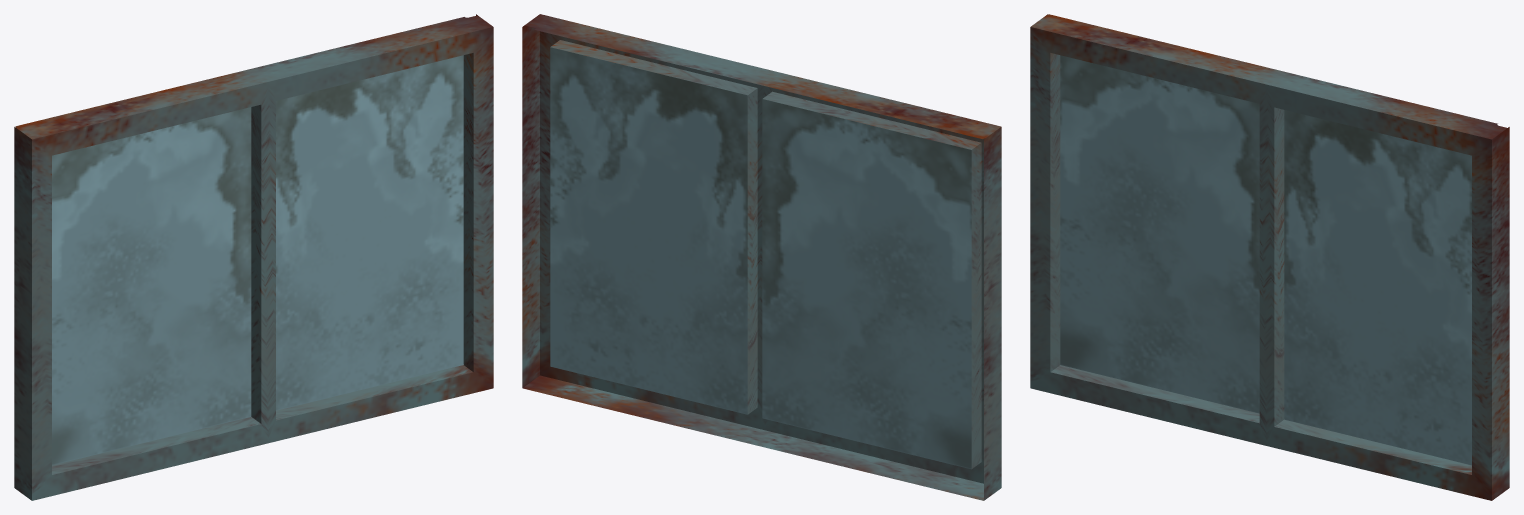
File: JanelaHorizontalDivisoria.fbx
3 renders of one model, left to right at view 1: azimuth 30°, elevation 25°; view 2: azimuth 150°, elevation 25°; view 3: azimuth 330°, elevation 25°, orthographic.
Visible parts, largest first — view 1: JanelaHorizontalDivisoria; view 2: JanelaHorizontalDivisoria; view 3: JanelaHorizontalDivisoria.
Part boxes in pixels (left/top/right/bottom): JanelaHorizontalDivisoria: left=14, top=14, right=493, bottom=500; JanelaHorizontalDivisoria: left=522, top=14, right=1001, bottom=500; JanelaHorizontalDivisoria: left=1030, top=14, right=1509, bottom=500.
Bounding box in the file's own units: 435 × 325 × 28.8.
